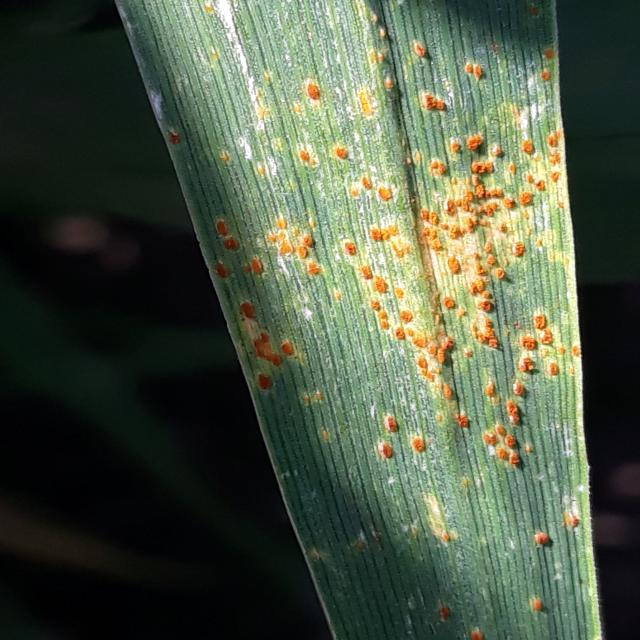orang_rust: (96, 3, 614, 640)
